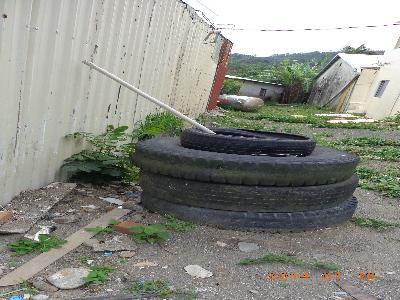tire: (133, 135, 362, 186), (138, 189, 359, 233), (138, 169, 361, 211), (179, 125, 316, 157)
